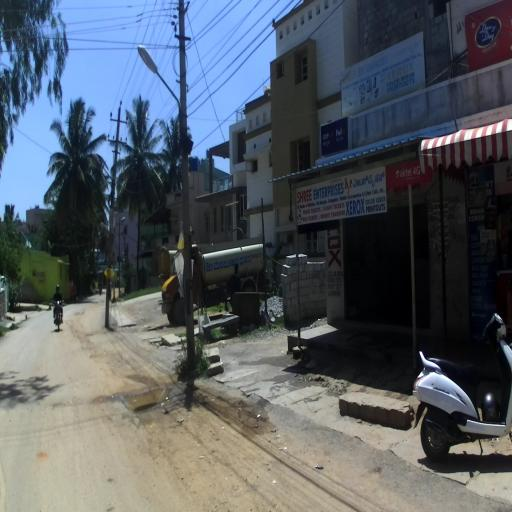street_light_0: (138, 44, 189, 136)
